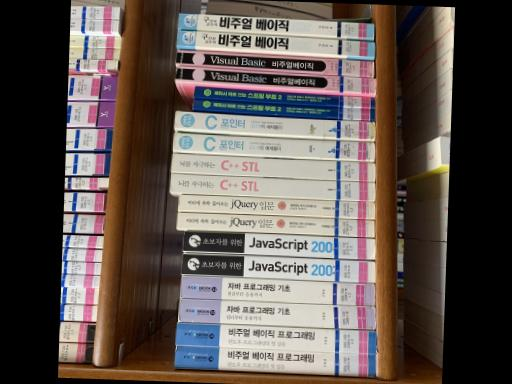book-spine: (178, 297, 376, 330), (174, 344, 376, 376), (175, 321, 375, 353), (173, 131, 374, 161), (175, 65, 376, 95), (181, 252, 375, 282), (175, 48, 374, 77), (176, 28, 375, 57), (169, 172, 375, 200), (174, 111, 375, 139), (180, 275, 374, 304), (171, 152, 375, 179), (182, 230, 375, 258), (177, 12, 374, 39), (176, 211, 374, 235), (177, 193, 375, 216), (194, 85, 375, 108), (192, 97, 375, 119)
